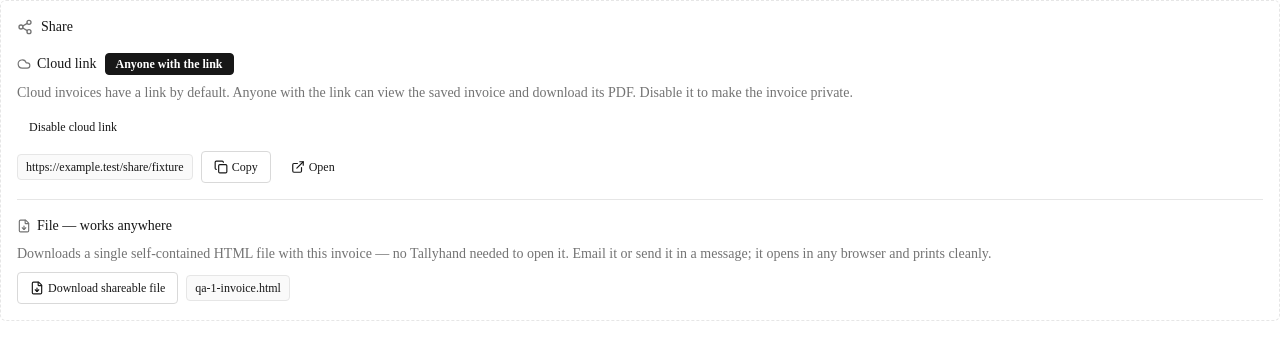
it: invoice sharing availability › loads the existing link without a click and disables it
Expected: the text "https://example.test/share/fixture" is shown, [17,154,193,180]
Step 1. Click the button "Disable cloud link" → [73, 127], box [17,111,129,143]
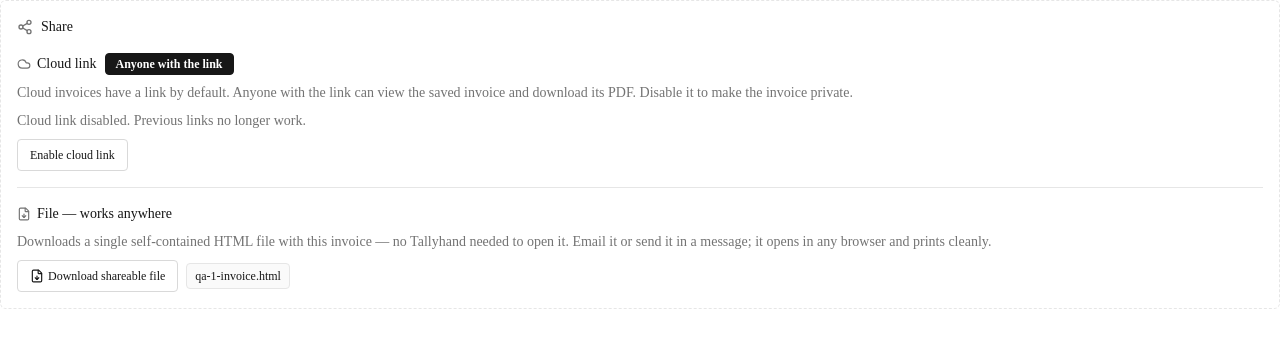
Expected: the button "Enable cloud link" is shown, [17,139,128,171]
